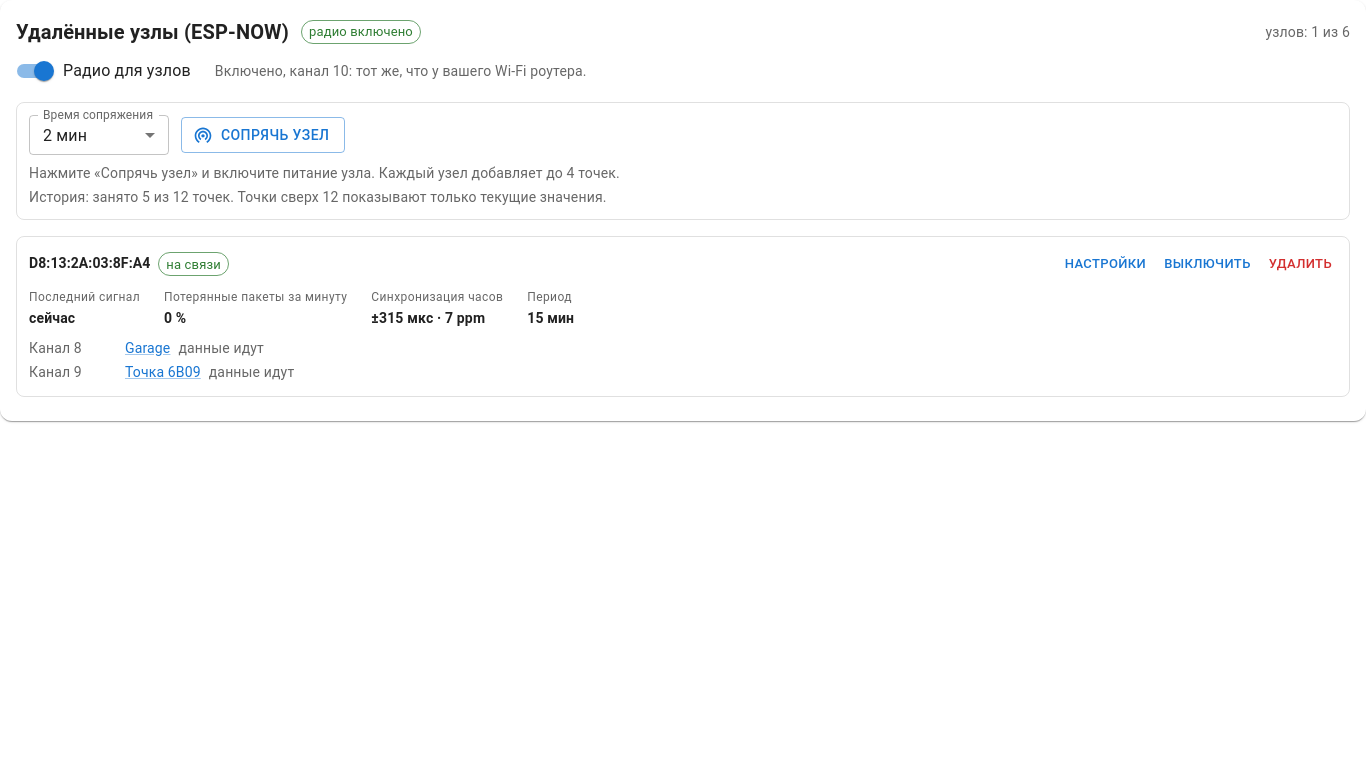
Test: NodesPanel (fw 1.1.7, root espnow-nodes-ui) › Settings → CT per channel (the period is fixed, shown) → configure with channels only; all channels off is refused
The width and height of the screenshot is (1366, 768).
Later steps or results of the test are not shown.
Click the button "Настройки": (1105, 264) [1060,249,1151,280]
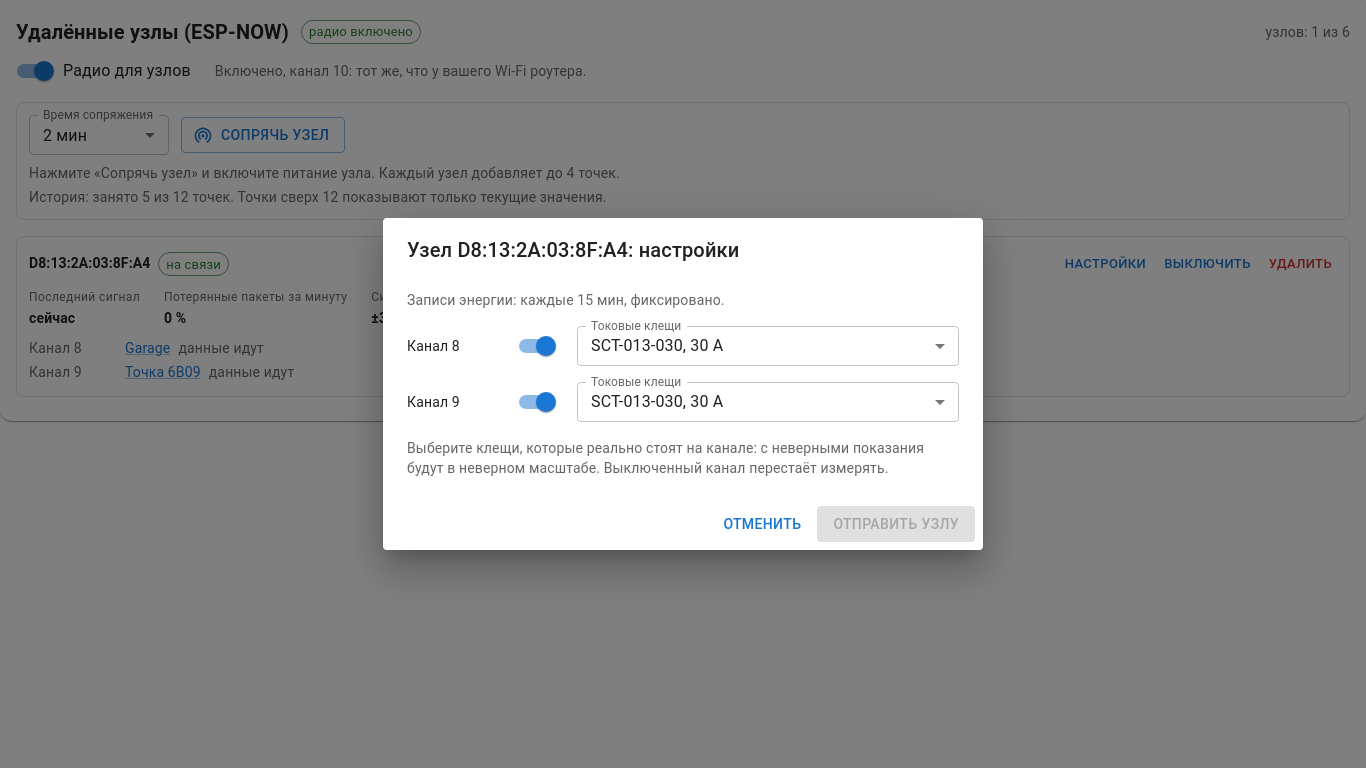
Now the text "Записи энергии: каждые 15 мин, фиксировано." is shown, box [407,292,725,308]
Now the button "Отправить узлу" is disabled, box [817,506,975,542]
Click the checkbox named "Канал 8 измеряет": (546, 346) [536,336,556,356]
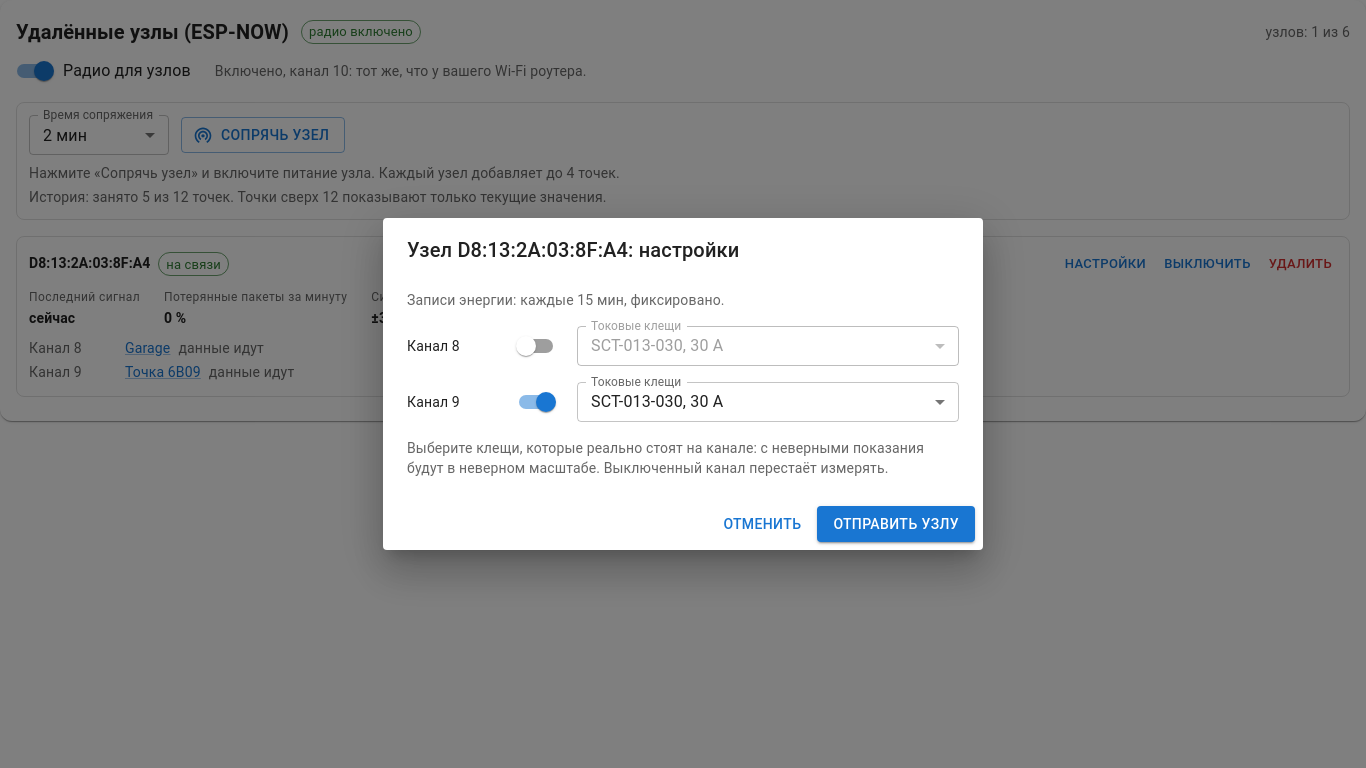
Click the checkbox named "Канал 9 измеряет": (546, 402) [536,392,556,412]
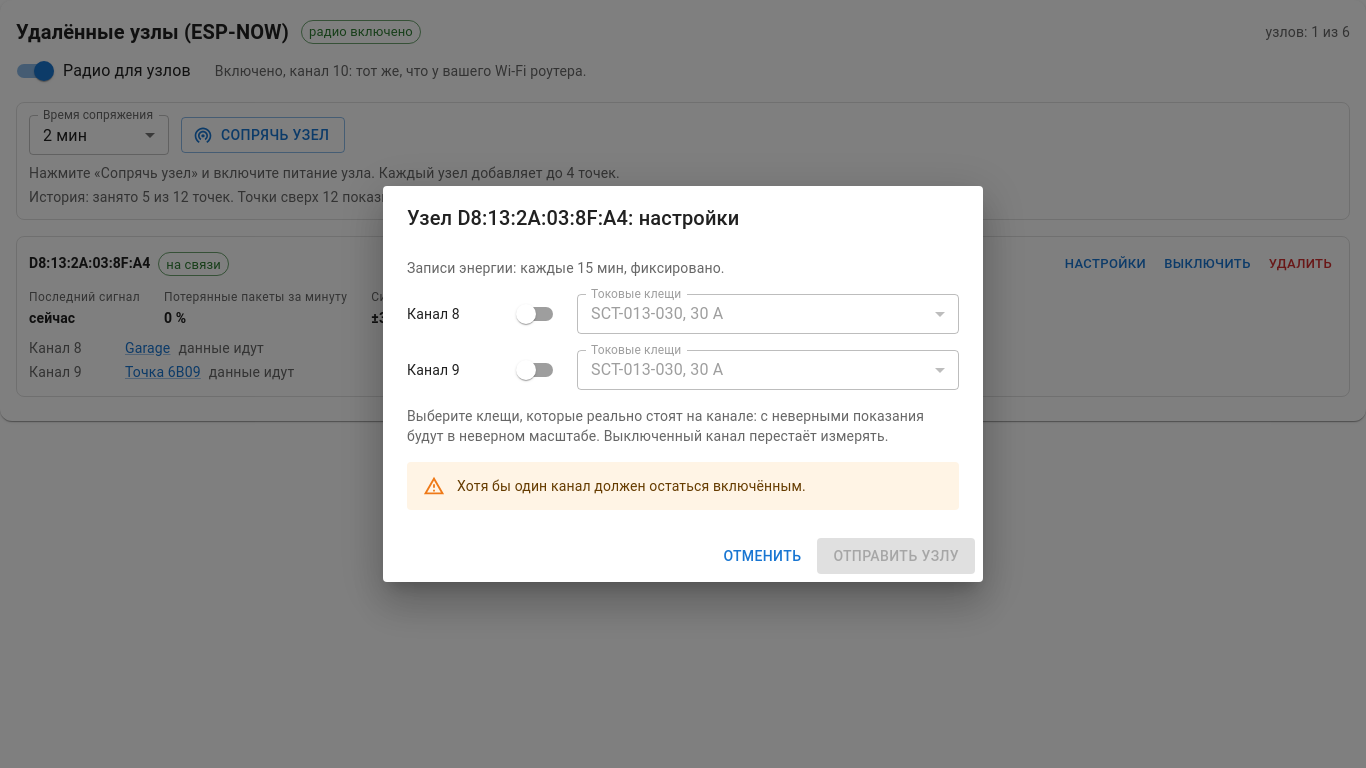
Now the text "Хотя бы один канал должен остаться включённым." is shown, box [457,478,806,494]
Now the button "Отправить узлу" is disabled, box [817,538,975,574]
